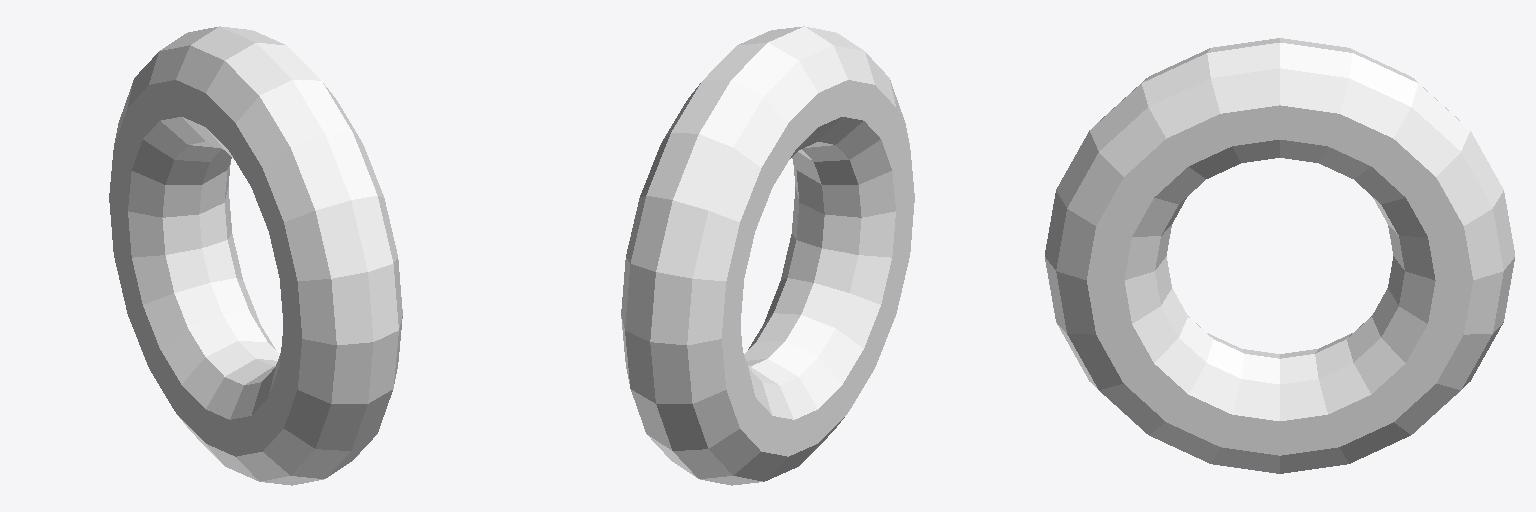
The model's file is torus-smooth.obj.
3 renders of one model, left to right at view 1: azimuth 30°, elevation 25°; view 2: azimuth 150°, elevation 25°; view 3: azimuth 270°, elevation 25°, orthographic.
Parts seen in each view (by area): view 1: Torus; view 2: Torus; view 3: Torus.
Boxes of the visible parts, <box> form: Torus: <box>109,26,402,485</box>; Torus: <box>621,26,914,485</box>; Torus: <box>1045,38,1514,473</box>.
Bounding box in the file's own units: 0.6657 × 2.7 × 2.7.